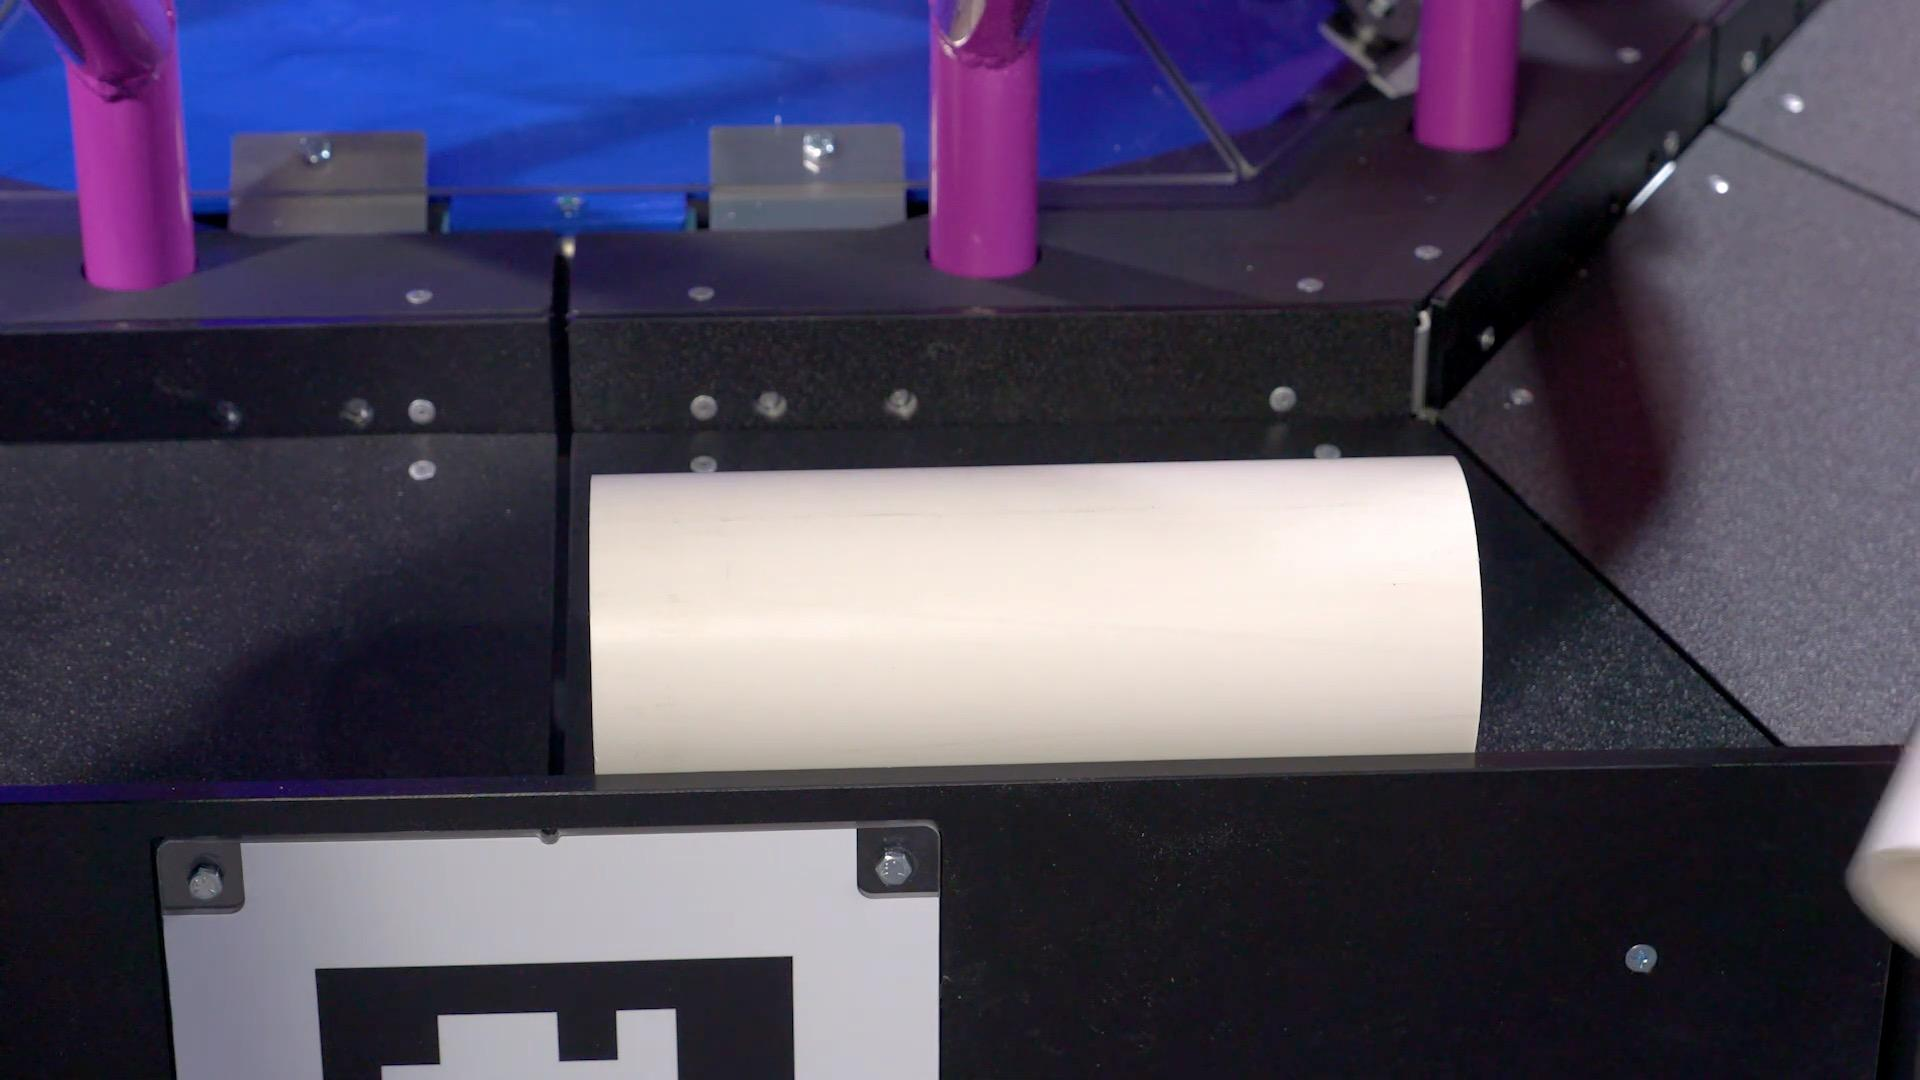CORAL: (584, 451, 1485, 775)
